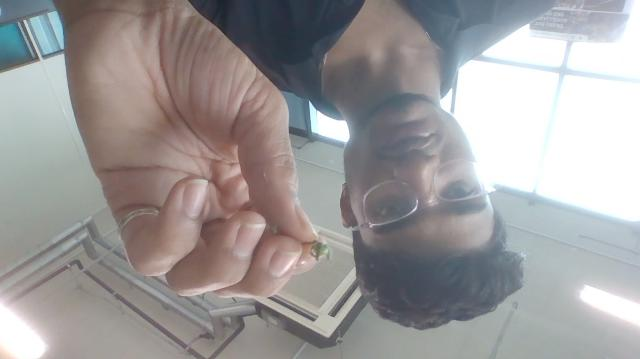Fruit Bud: (310, 241, 328, 261)
